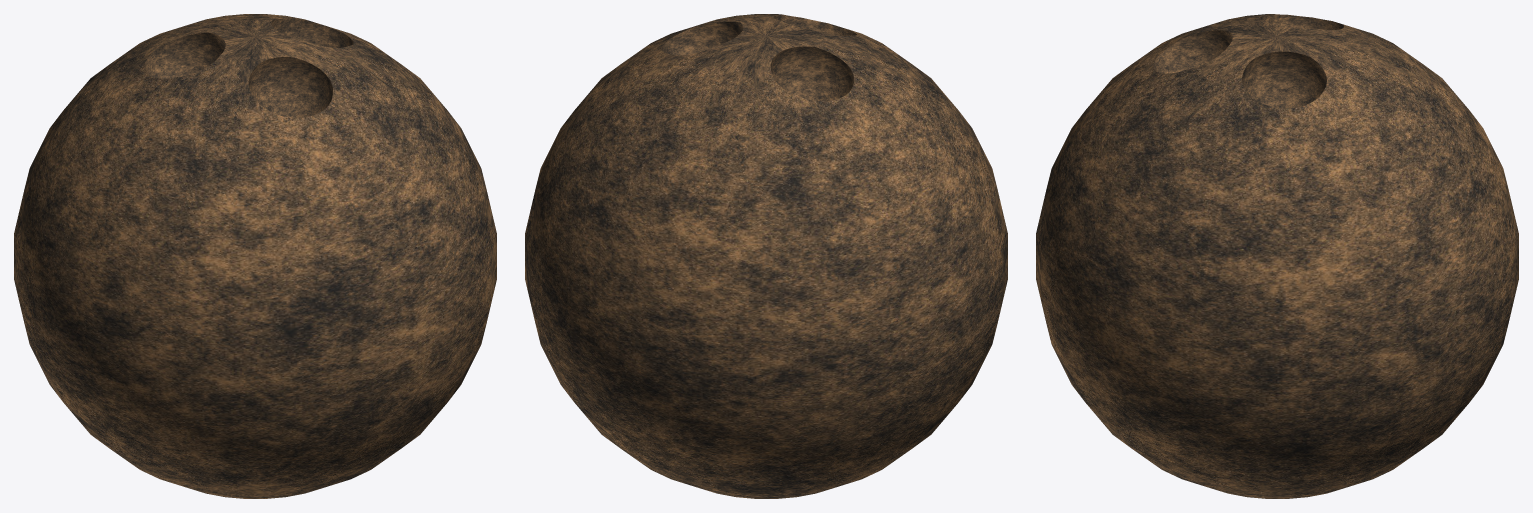
File: coconut.obj
3 renders of one model, left to right at view 1: azimuth 30°, elevation 25°; view 2: azimuth 150°, elevation 25°; view 3: azimuth 270°, elevation 25°, orthographic.
Visible parts, largest first — view 1: Sphere001; view 2: Sphere001; view 3: Sphere001.
Part boxes in pixels (x1,y1,x2,y2): Sphere001: (14,14,496,498); Sphere001: (525,14,1007,498); Sphere001: (1036,14,1518,498).
Bounding box in the file's own units: 23.74 × 24 × 23.87.
